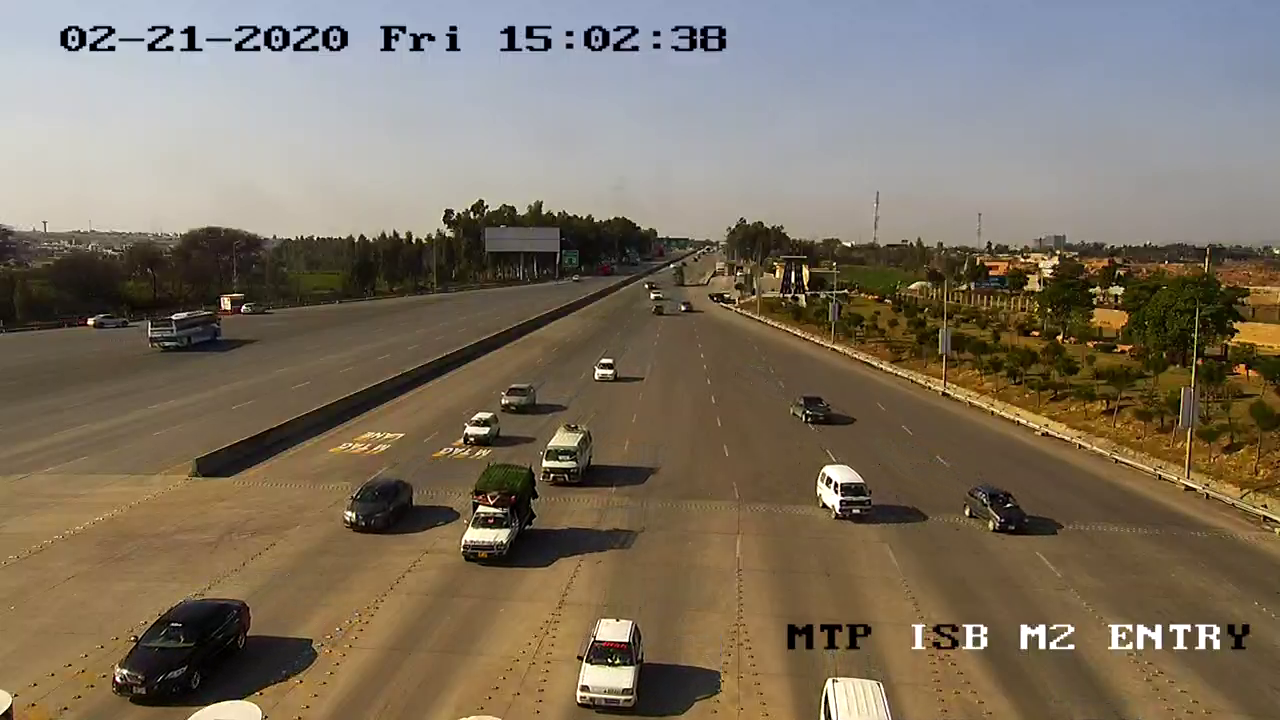f1: (100, 586, 266, 704), (572, 611, 655, 713), (337, 470, 419, 539), (959, 473, 1035, 543), (806, 458, 879, 528), (785, 381, 843, 438), (452, 406, 507, 452)
f2: (450, 457, 542, 572), (535, 414, 597, 492)
